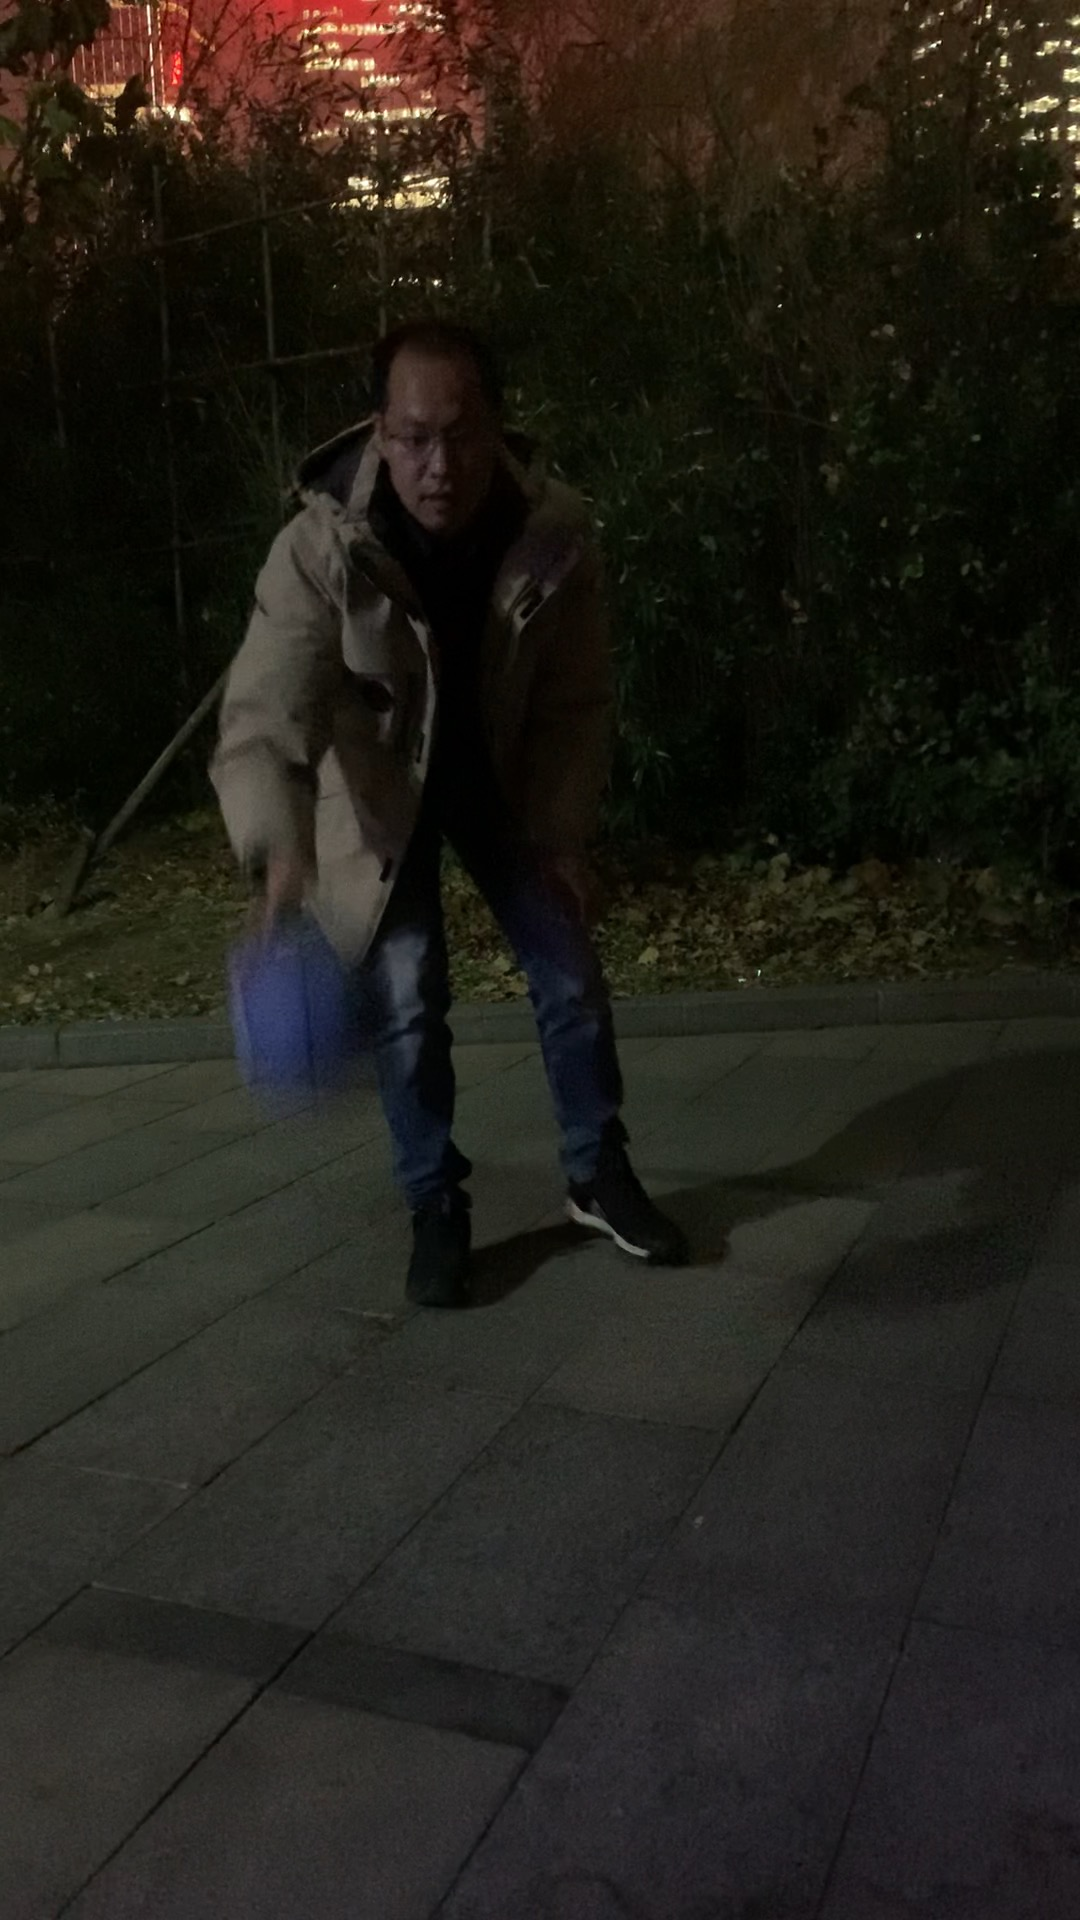ball: (222, 935, 404, 1102)
